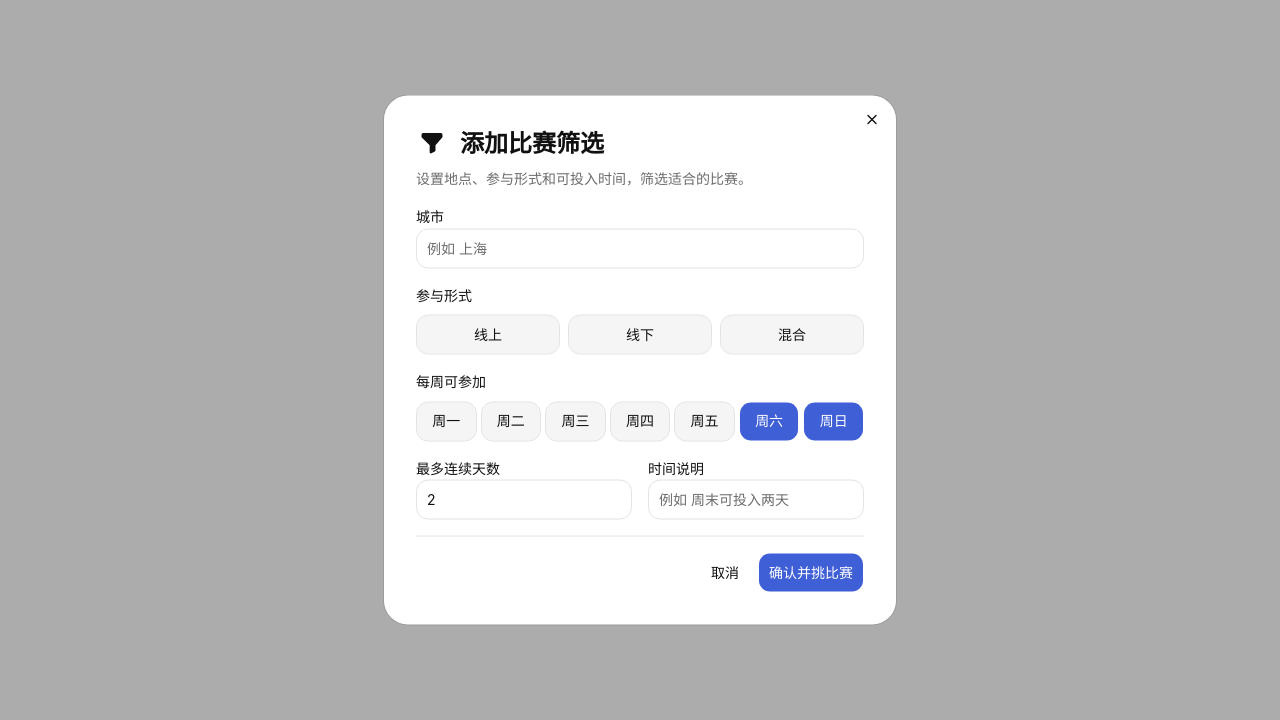
it: profile confirmation › updates filters while preserving confirmed profile fields
This screenshot has width=1280, height=720.
Type "上海" into the field labelled "城市" at coordinates (640, 248), box [416,228,864,268]
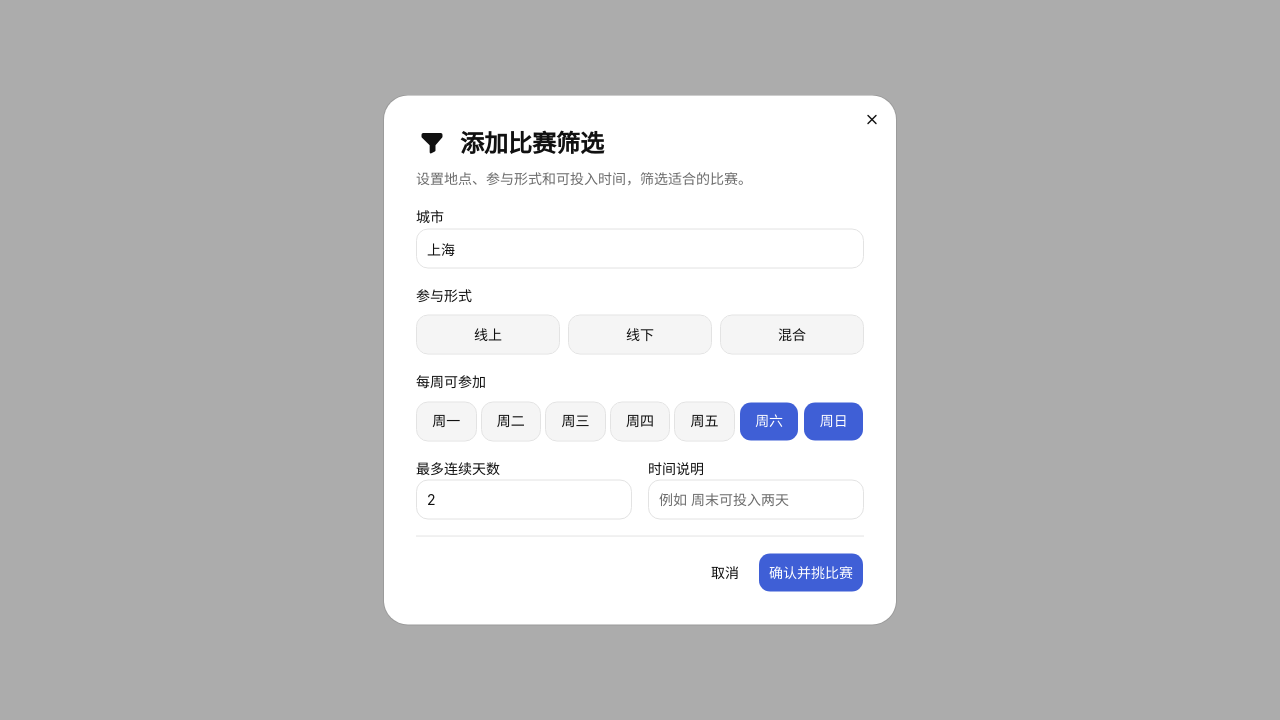
Click the button "线上" at coordinates (488, 335), box [416,315,560,355]
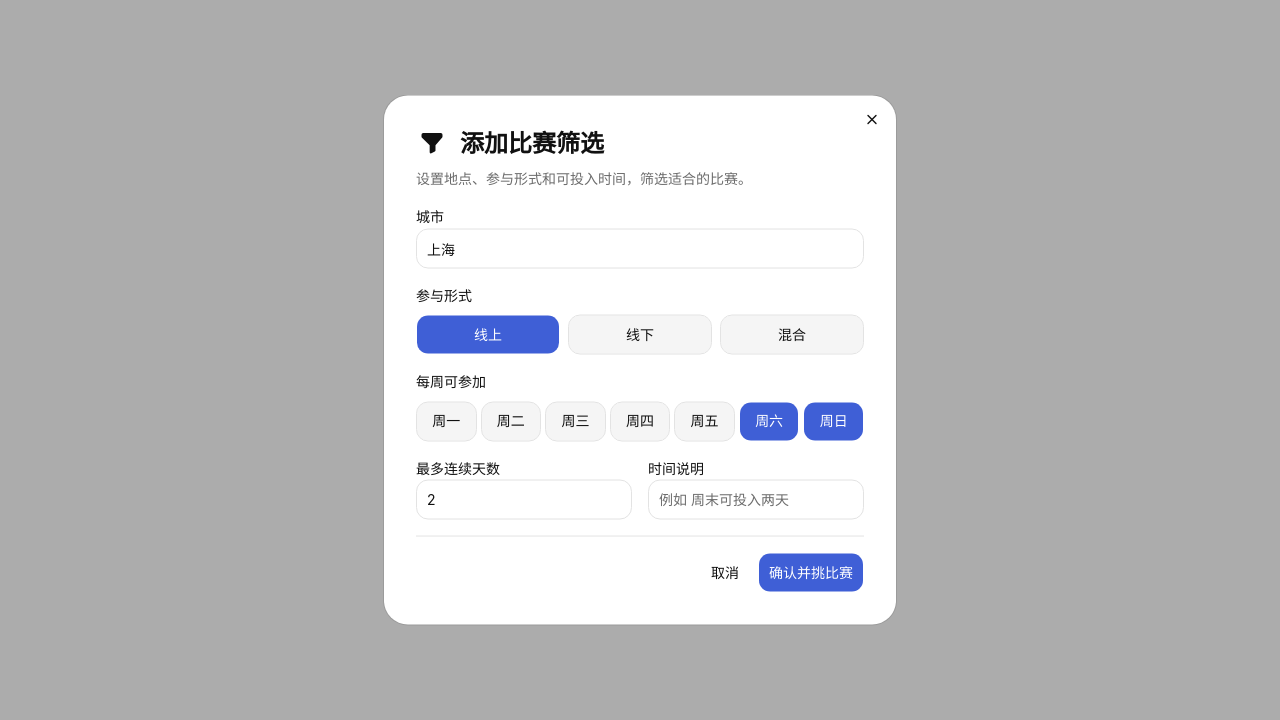
Click the button "确认并挑比赛" at coordinates (811, 572), box [758,552,864,592]
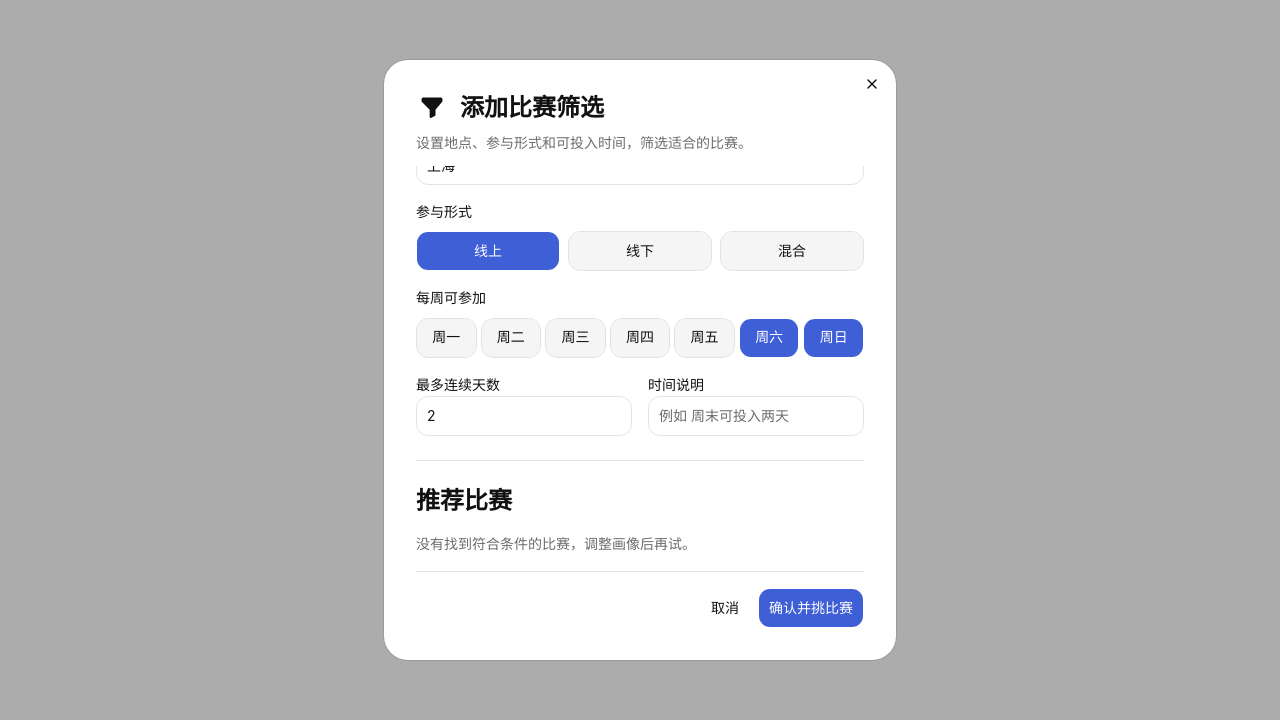
Now the text "没有找到符合条件的比赛，调整画像后再试。" is shown, box [416,535,696,552]
